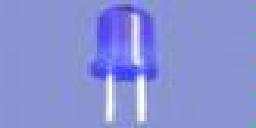LED: (85, 6, 163, 128)
